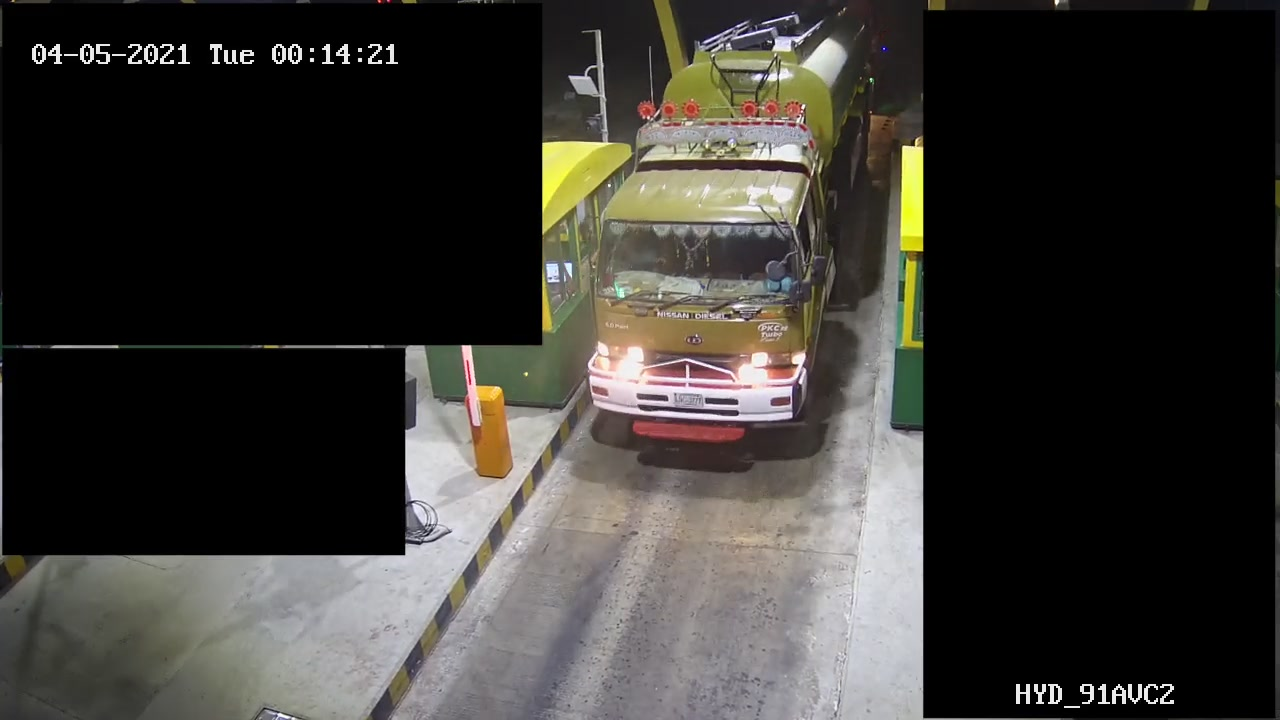F6: (578, 1, 887, 476)
